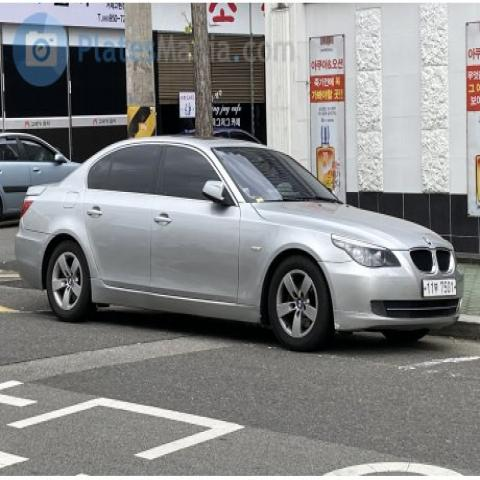LP: (419, 268, 463, 305)
